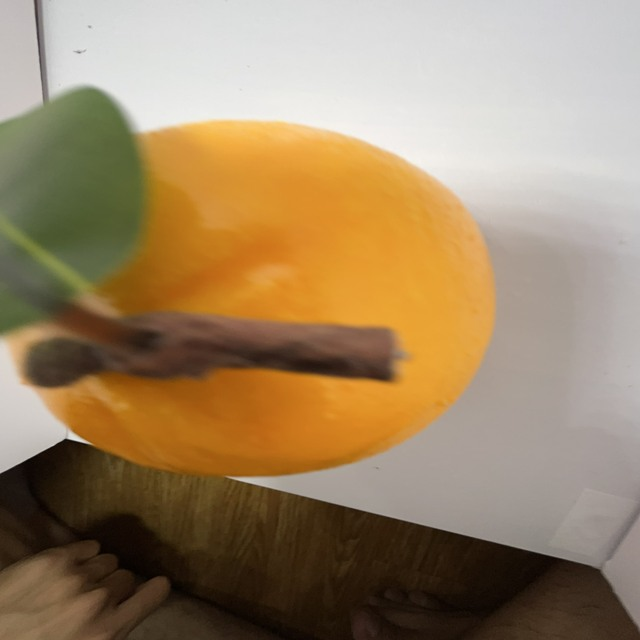Cam vang: (0, 114, 504, 481)
